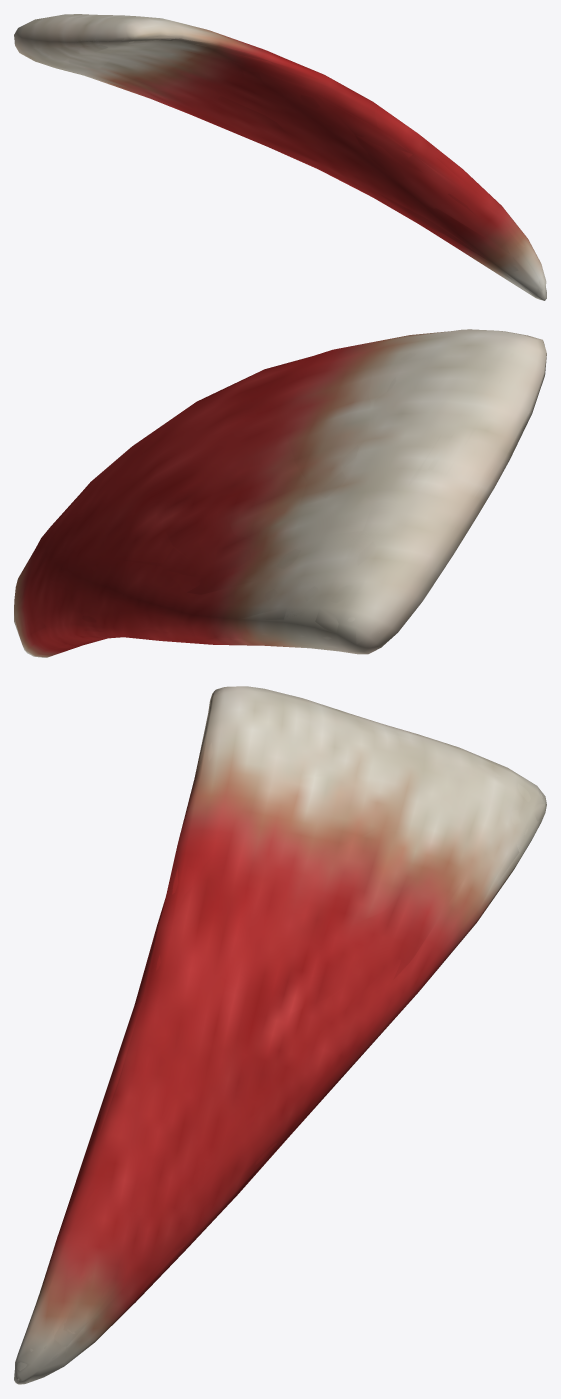
The model's file is L Gluteus Superficialis.fbx.
3 views of the same model, one above another, from view 1: azimuth 30°, elevation 25°; view 2: azimuth 150°, elevation 25°; view 3: azimuth 270°, elevation 25° (orthographic). The views are drawn at different scales.
Parts seen in each view (by area): view 1: L Gluteus Superficialis, L Gluteus Superficialis low, L Gluteus Superficialis high; view 2: L Gluteus Superficialis, L Gluteus Superficialis low, L Gluteus Superficialis high; view 3: L Gluteus Superficialis, L Gluteus Superficialis low, L Gluteus Superficialis high.
Part boxes in pixels (x1=…): L Gluteus Superficialis: x1=14, y1=14, x2=546, y2=300; L Gluteus Superficialis low: x1=14, y1=17, x2=543, y2=300; L Gluteus Superficialis high: x1=18, y1=16, x2=545, y2=298; L Gluteus Superficialis: x1=14, y1=329, x2=546, y2=657; L Gluteus Superficialis low: x1=14, y1=339, x2=546, y2=654; L Gluteus Superficialis high: x1=17, y1=332, x2=545, y2=656; L Gluteus Superficialis: x1=14, y1=686, x2=546, y2=1384; L Gluteus Superficialis low: x1=17, y1=709, x2=545, y2=1382; L Gluteus Superficialis high: x1=16, y1=689, x2=542, y2=1380.
Size of the model in its own units: 3 by 2.37 by 2.53.
